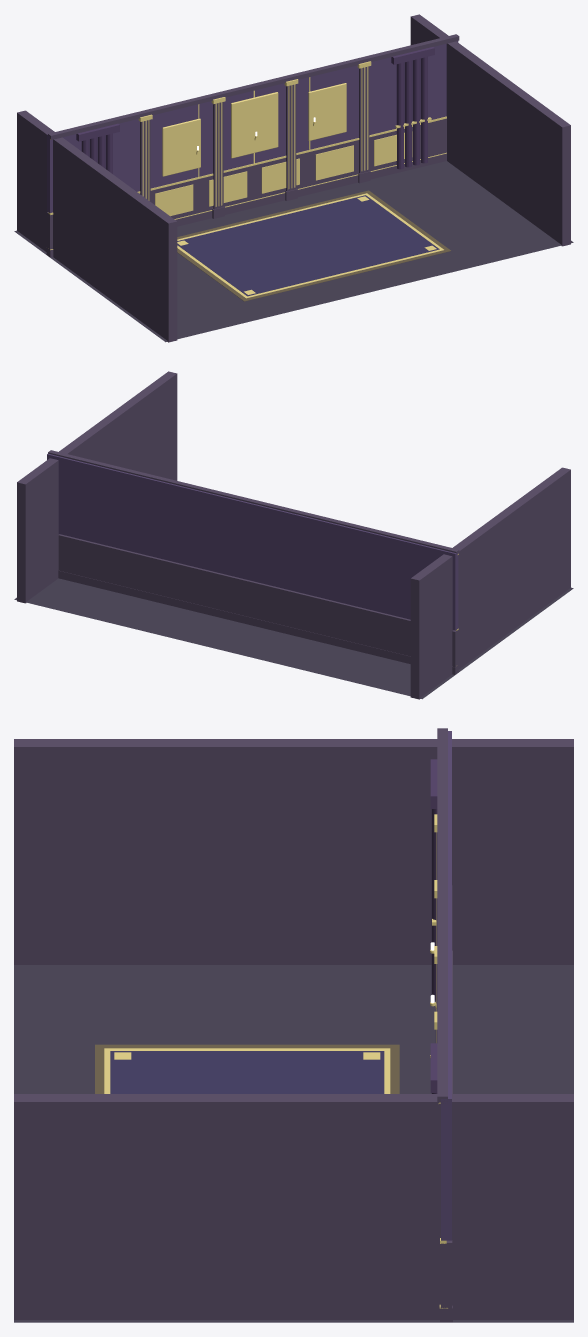
Rendered from room_barao_lounge.glb.
3 views of the same model, one above another, from view 1: azimuth 30°, elevation 25°; view 2: azimuth 150°, elevation 25°; view 3: azimuth 270°, elevation 25° (orthographic). The views are drawn at different scales.
Parts seen in each view (by area): view 1: Floor, SideWall_Left, SideWall_Right, ClubRug_Inner, BackWall_Upper, BackWall_Lower, CrownMolding, FrameOuter_CenterGrandArt, ClubRug_Outer, FrameOuter_RightArt, FrameOuter_LeftArt, Baseboard (+15 smaller); view 2: BackWall_Upper, SideWall_Left, BackWall_Lower, Floor, SideWall_Right, Baseboard, CrownMolding; view 3: SideWall_Right, SideWall_Left, Floor, ClubRug_Inner, CrownMolding, BackWall_Upper, ClubRug_Outer, ClubRug_Stripe, BackWall_Lower, DraperyFold_Left_3.
Boxes of the visible parts, left/top/right/bottom form: Floor: left=14, top=161, right=573, bottom=342; SideWall_Left: left=17, top=110, right=177, bottom=342; SideWall_Right: left=410, top=14, right=570, bottom=246; ClubRug_Inner: left=177, top=195, right=439, bottom=296; BackWall_Upper: left=47, top=41, right=458, bottom=212; BackWall_Lower: left=47, top=118, right=446, bottom=249; CrownMolding: left=48, top=34, right=459, bottom=139; FrameOuter_CenterGrandArt: left=231, top=92, right=278, bottom=158; ClubRug_Outer: left=177, top=190, right=450, bottom=301; FrameOuter_RightArt: left=308, top=83, right=346, bottom=140; FrameOuter_LeftArt: left=162, top=118, right=200, bottom=176; Baseboard: left=46, top=153, right=446, bottom=257; BackWall_Upper: left=47, top=453, right=458, bottom=630; SideWall_Left: left=410, top=467, right=570, bottom=699; BackWall_Lower: left=58, top=534, right=458, bottom=667; Floor: left=14, top=578, right=573, bottom=699; SideWall_Right: left=17, top=371, right=177, bottom=603; Baseboard: left=58, top=570, right=458, bottom=674; CrownMolding: left=48, top=450, right=459, bottom=553; SideWall_Right: left=14, top=1094, right=573, bottom=1319; SideWall_Left: left=14, top=739, right=573, bottom=964; Floor: left=14, top=965, right=573, bottom=1322; ClubRug_Inner: left=110, top=1051, right=384, bottom=1093; CrownMolding: left=437, top=728, right=447, bottom=1104; BackWall_Upper: left=441, top=731, right=451, bottom=1240; ClubRug_Outer: left=95, top=1044, right=399, bottom=1093; ClubRug_Stripe: left=104, top=1048, right=390, bottom=1093; BackWall_Lower: left=440, top=885, right=452, bottom=1308; DraperyFold_Left_3: left=431, top=809, right=437, bottom=1000.
Bounding box in the file's own units: 28 × 8.09 × 18.
